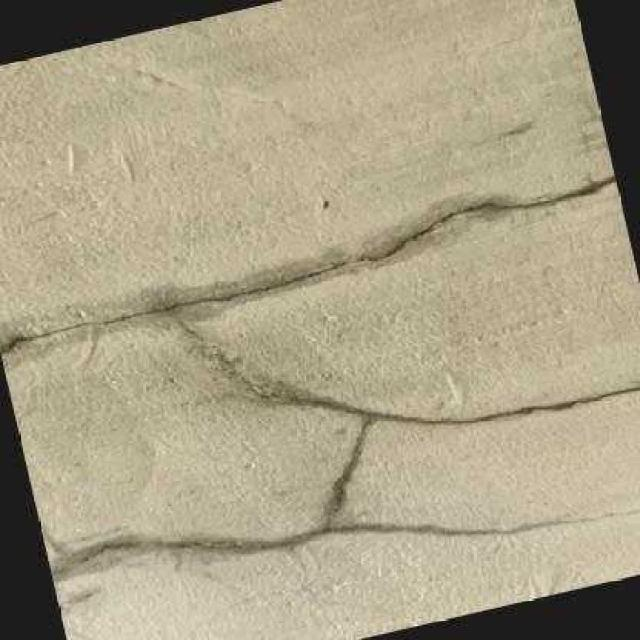D00: (2, 170, 640, 587)
